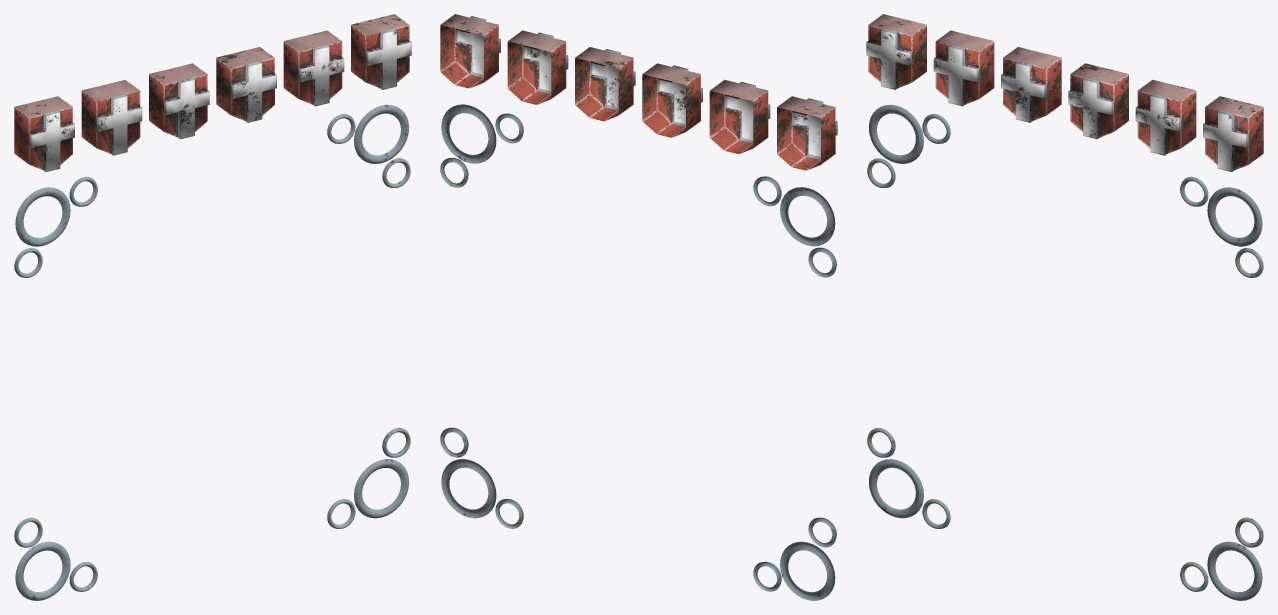
The model's file is GiantClockFace_Decorations.obj.
3 renders of one model, left to right at view 1: azimuth 30°, elevation 25°; view 2: azimuth 150°, elevation 25°; view 3: azimuth 330°, elevation 25°, orthographic.
Visible parts, largest first — view 1: GiantClockFace_Decorations_Lowpoly; view 2: GiantClockFace_Decorations_Lowpoly; view 3: GiantClockFace_Decorations_Lowpoly.
Part boxes in pixels (x1,y1,x2,y2): GiantClockFace_Decorations_Lowpoly: (14,14,411,600); GiantClockFace_Decorations_Lowpoly: (440,14,837,600); GiantClockFace_Decorations_Lowpoly: (866,14,1263,600).
Bounding box in the file's own units: 9.83 × 11.72 × 0.7289.
